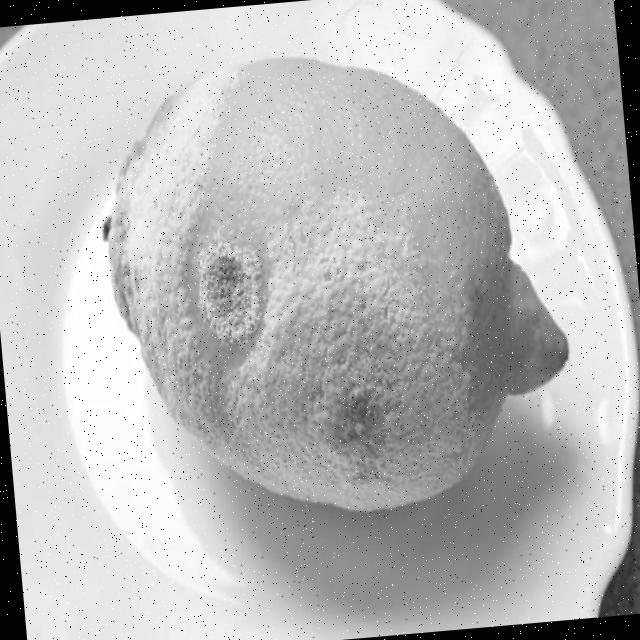Rotten: (85, 32, 584, 532)
